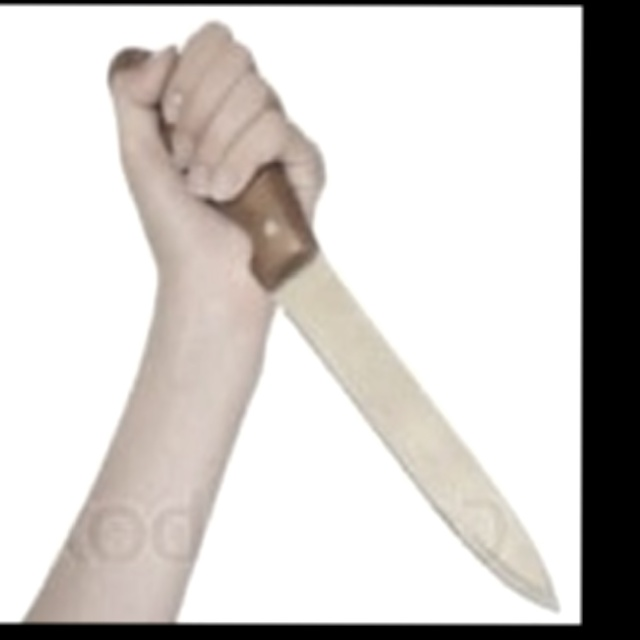Sharp-Object: (109, 49, 558, 613)
